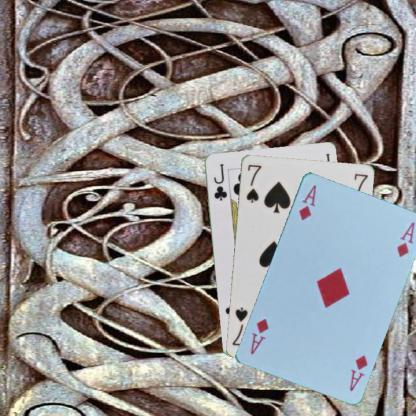7s: (244, 161, 262, 204)
Ad: (347, 352, 370, 392), (296, 181, 318, 222)
Jc: (210, 160, 228, 202)
